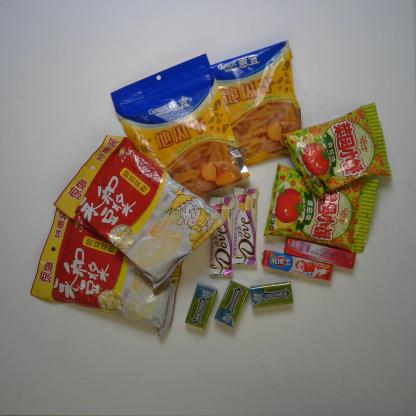Candy: (282, 236, 357, 270), (260, 248, 334, 282)
Chocolate: (230, 185, 260, 266), (208, 195, 237, 278)
Dried Fruit: (107, 52, 252, 198), (210, 38, 304, 170)
Gum: (212, 280, 250, 330), (184, 281, 218, 329), (248, 280, 295, 309)
Instant Drink: (51, 132, 227, 291), (28, 206, 184, 337)
Puffed Food: (279, 101, 393, 200), (262, 161, 380, 255)
